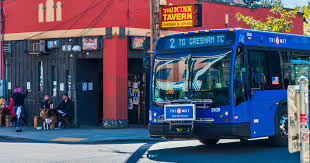bus: (146, 27, 310, 147)
